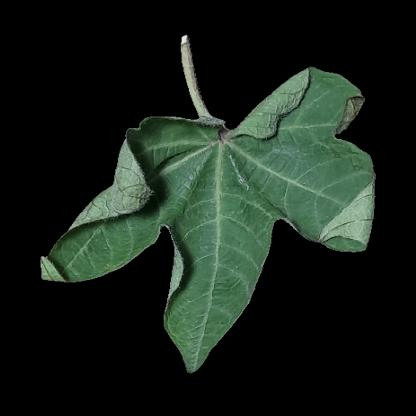curl_stage2: (109, 127, 199, 224), (190, 225, 271, 293), (236, 74, 312, 145), (315, 173, 378, 247), (197, 138, 235, 224), (226, 154, 294, 200), (175, 295, 244, 337), (64, 232, 119, 279), (320, 91, 366, 141)
